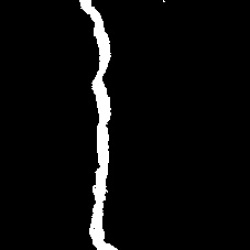crack: (80, 1, 116, 249)
